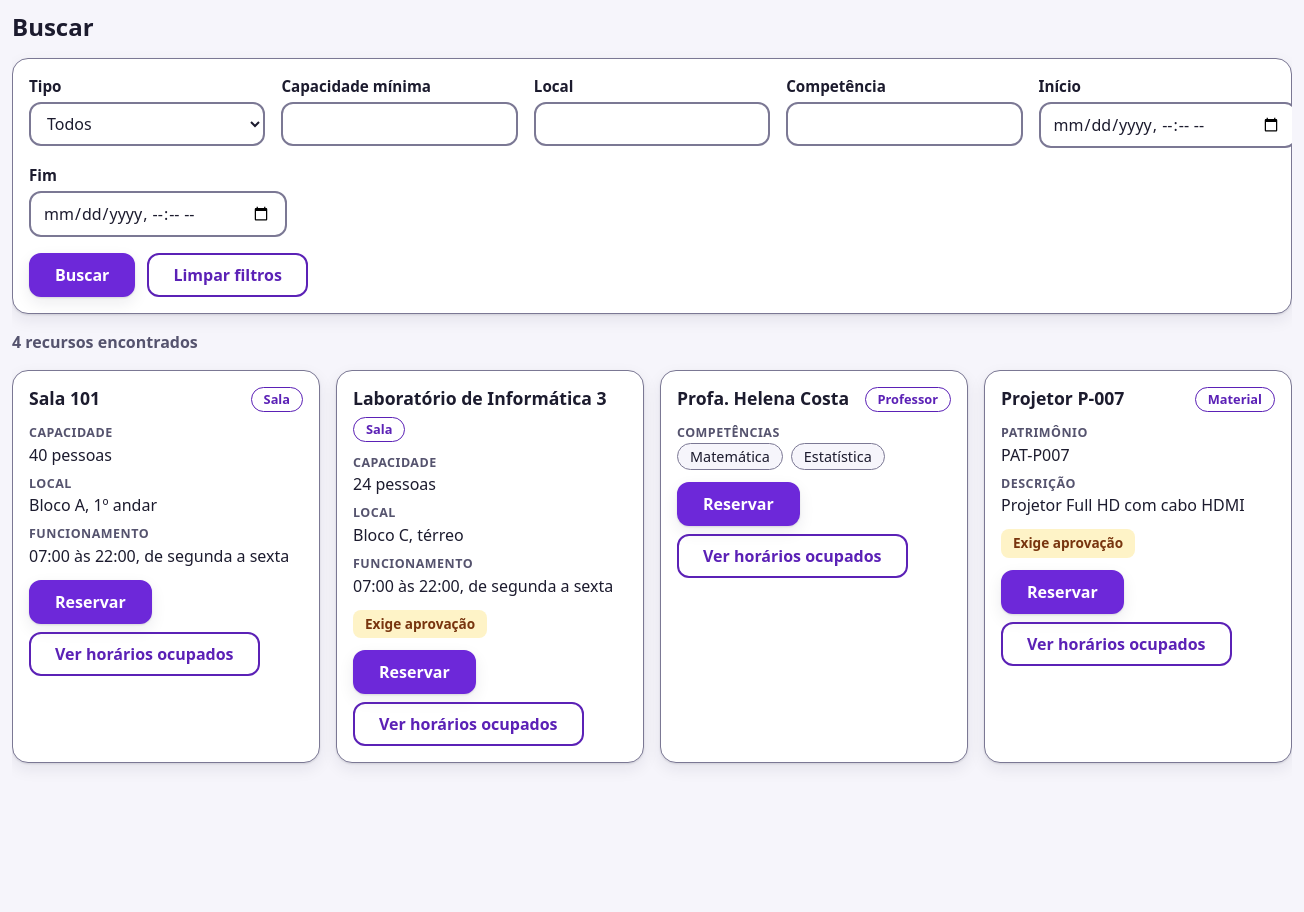
Scenario: PaginaDeBusca: filtros › Buscar envia os filtros preenchidos e mostra o novo resultado
Check: the text "4 recursos encontrados" is shown, box top-left (12, 331), bottom-right (198, 353)
Select "Sala" in the dropdown labelled "Tipo" at (147, 124), box top-left (29, 102), bottom-right (265, 146)
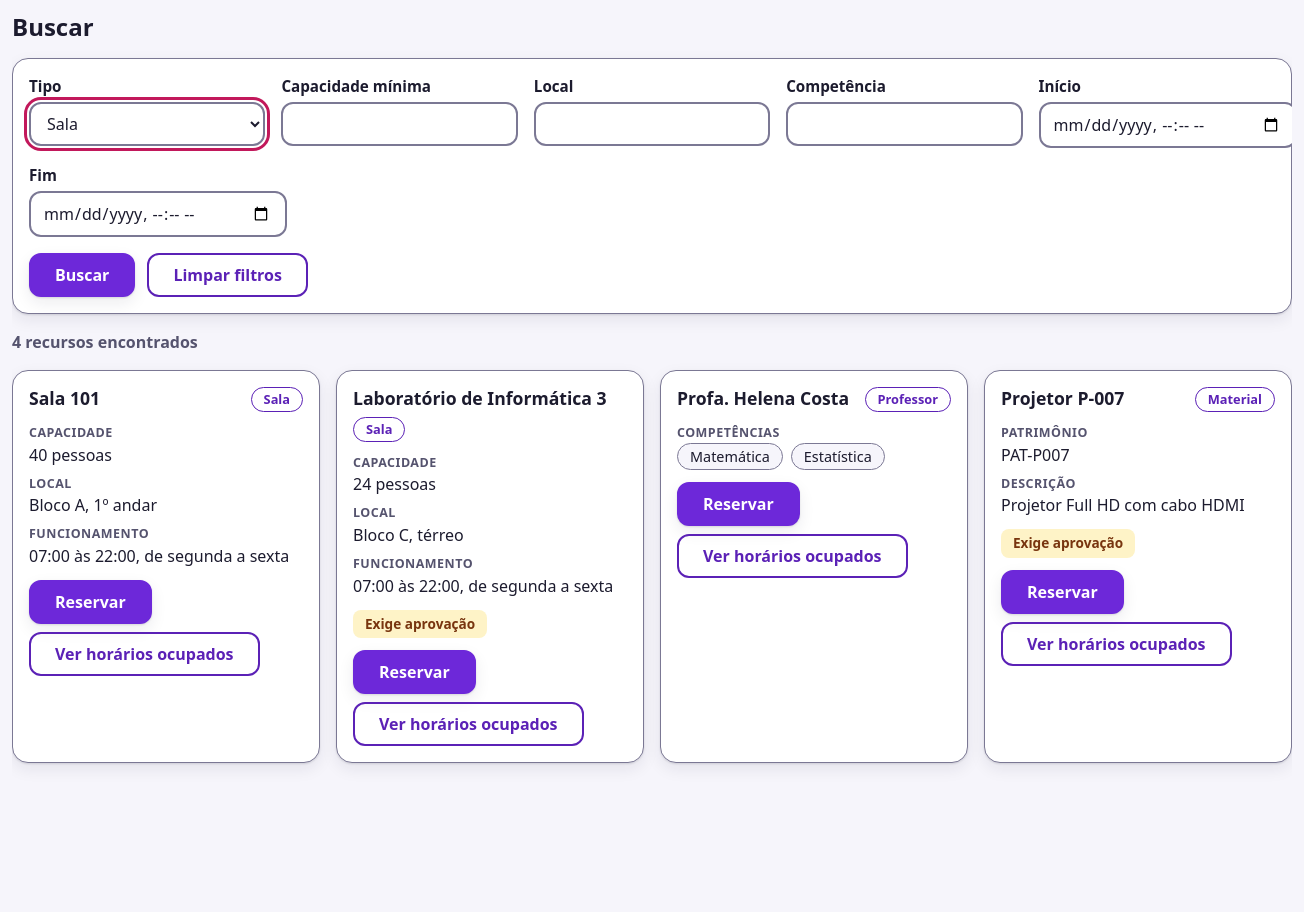
Type "30" into the number field labelled "Capacidade mínima" at (400, 124), box top-left (281, 102), bottom-right (518, 146)
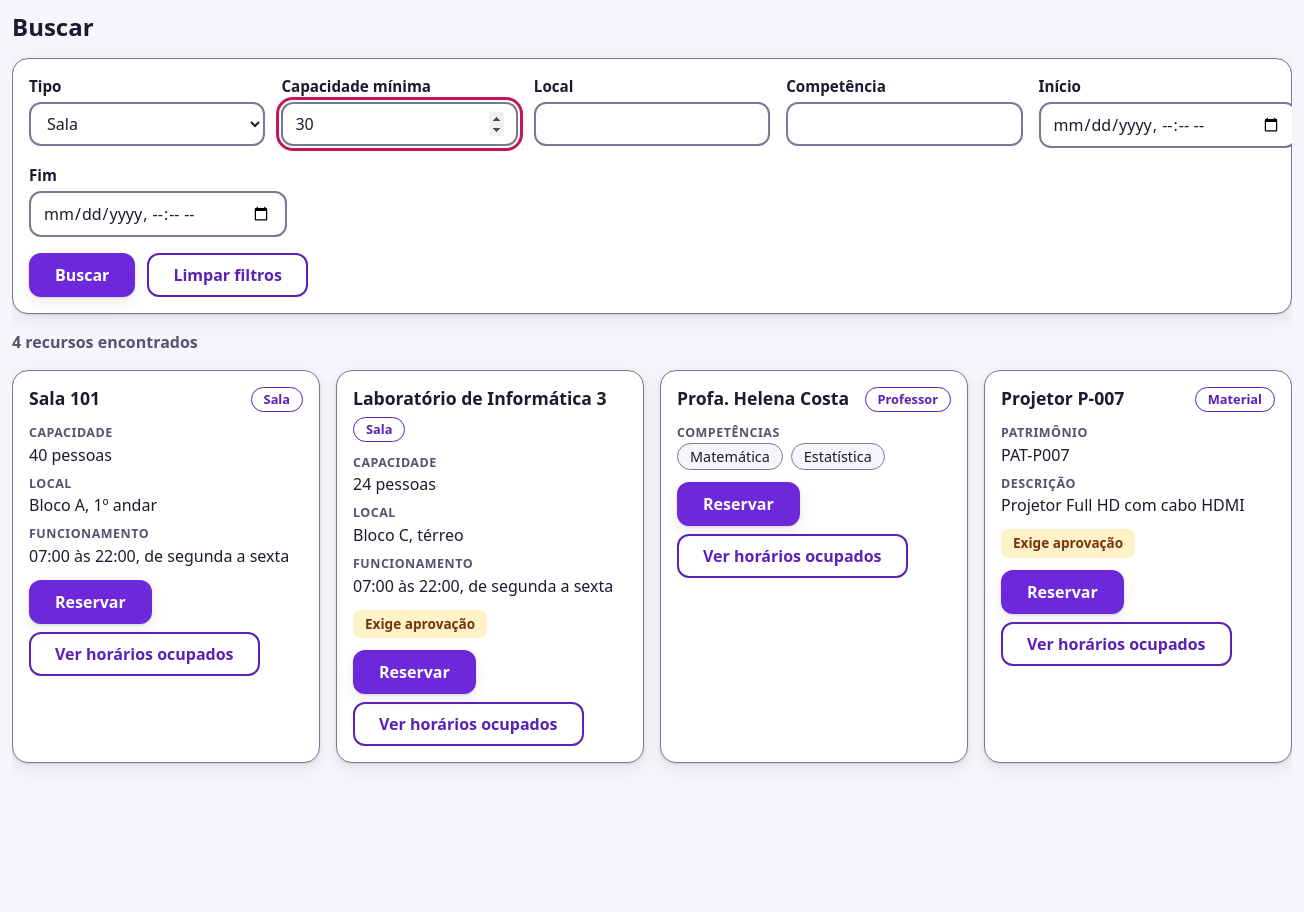
Type "Bloco A" into the field labelled "Local" at (652, 124), box top-left (534, 102), bottom-right (770, 146)
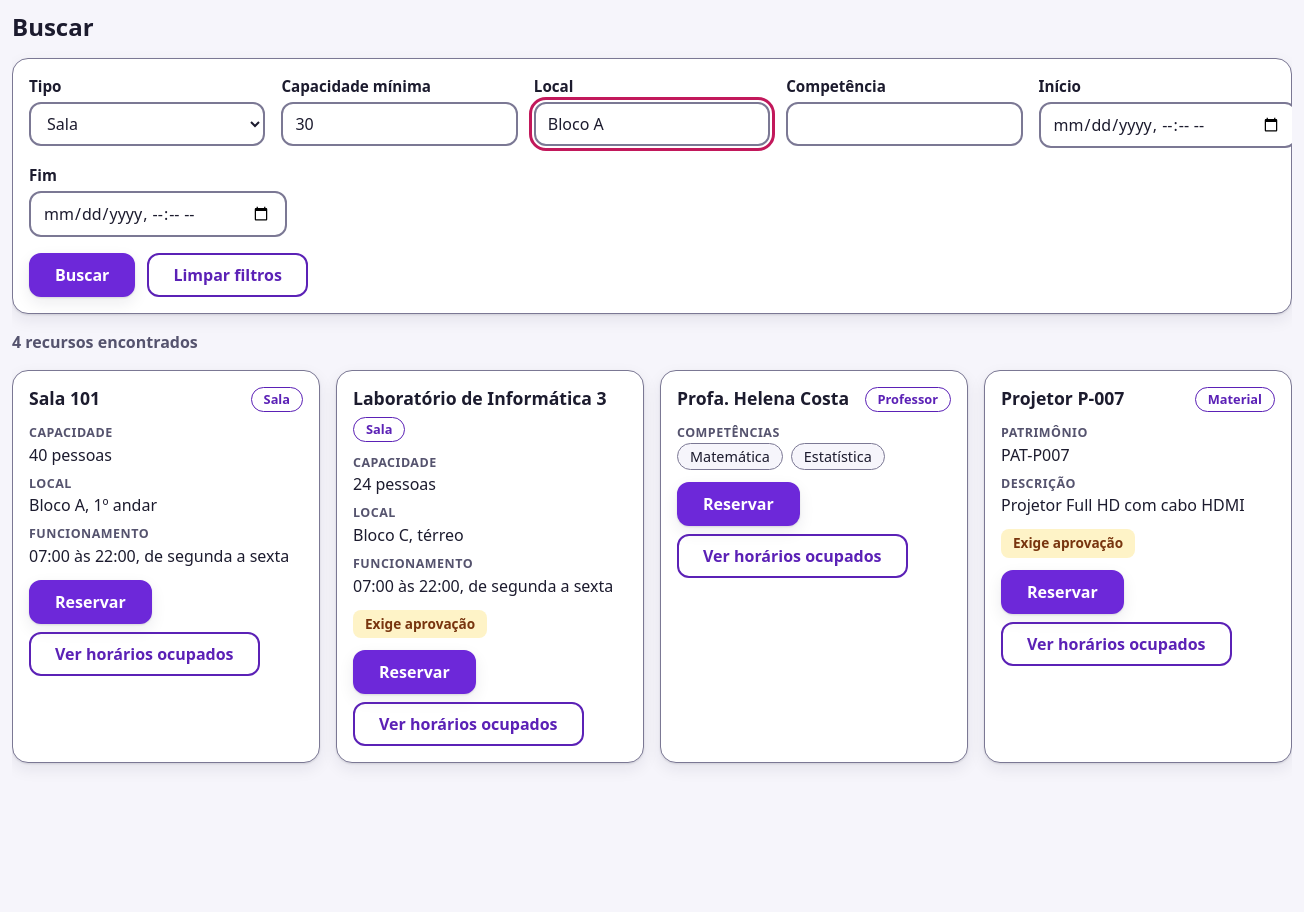
Click the button "Buscar" at (82, 275), box top-left (29, 253), bottom-right (135, 297)
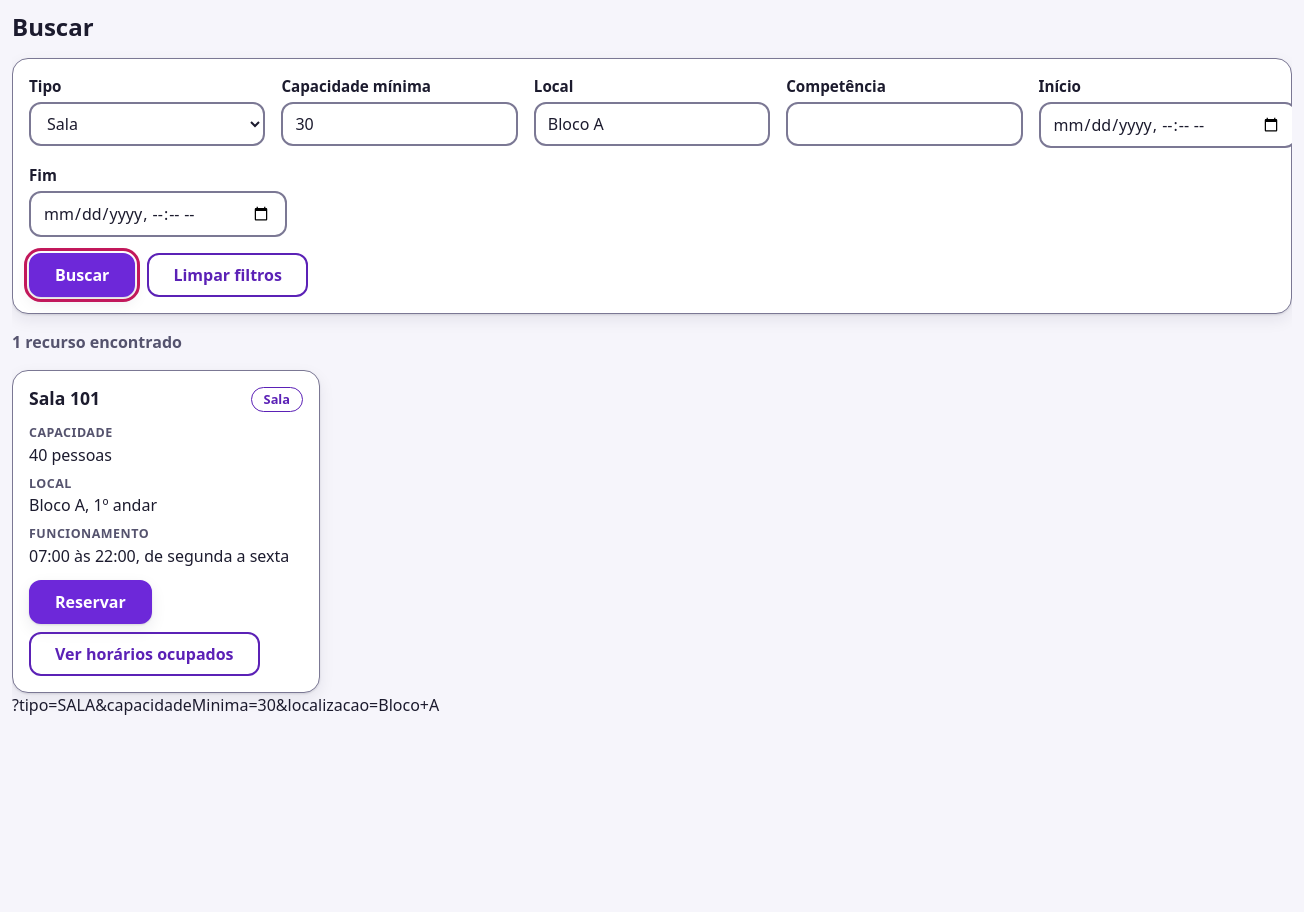
Check: the text "1 recurso encontrado" is shown, box top-left (12, 331), bottom-right (182, 353)
